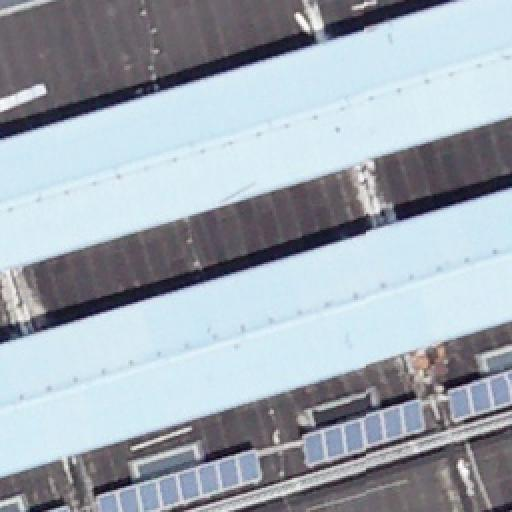solar-panel: (96, 448, 264, 512), (300, 396, 428, 468), (448, 369, 512, 423), (48, 504, 72, 512)
